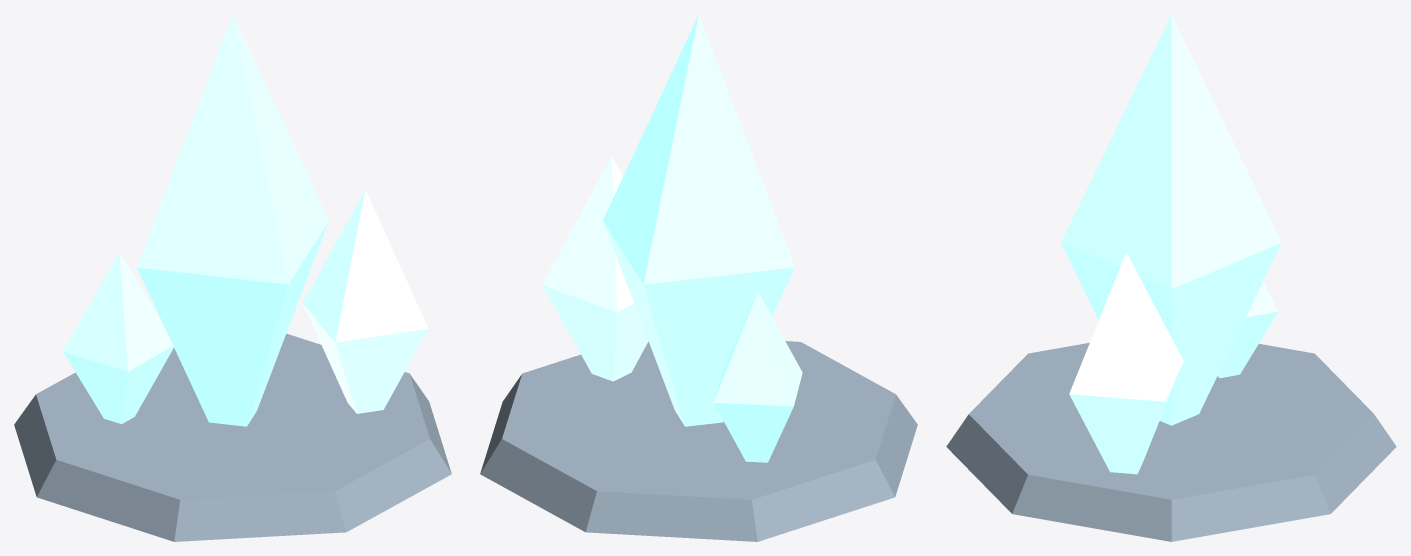
File: crystal.glb
3 renders of one model, left to right at view 1: azimuth 30°, elevation 25°; view 2: azimuth 150°, elevation 25°; view 3: azimuth 270°, elevation 25°, orthographic.
Visible parts, largest first — view 1: crystal; view 2: crystal; view 3: crystal.
Part boxes in pixels (box(x1,y1,x2,y2)): crystal: box(14, 14, 451, 541); crystal: box(480, 14, 917, 541); crystal: box(946, 14, 1396, 541).
Bounding box in the file's own units: 1 × 1.12 × 1.
